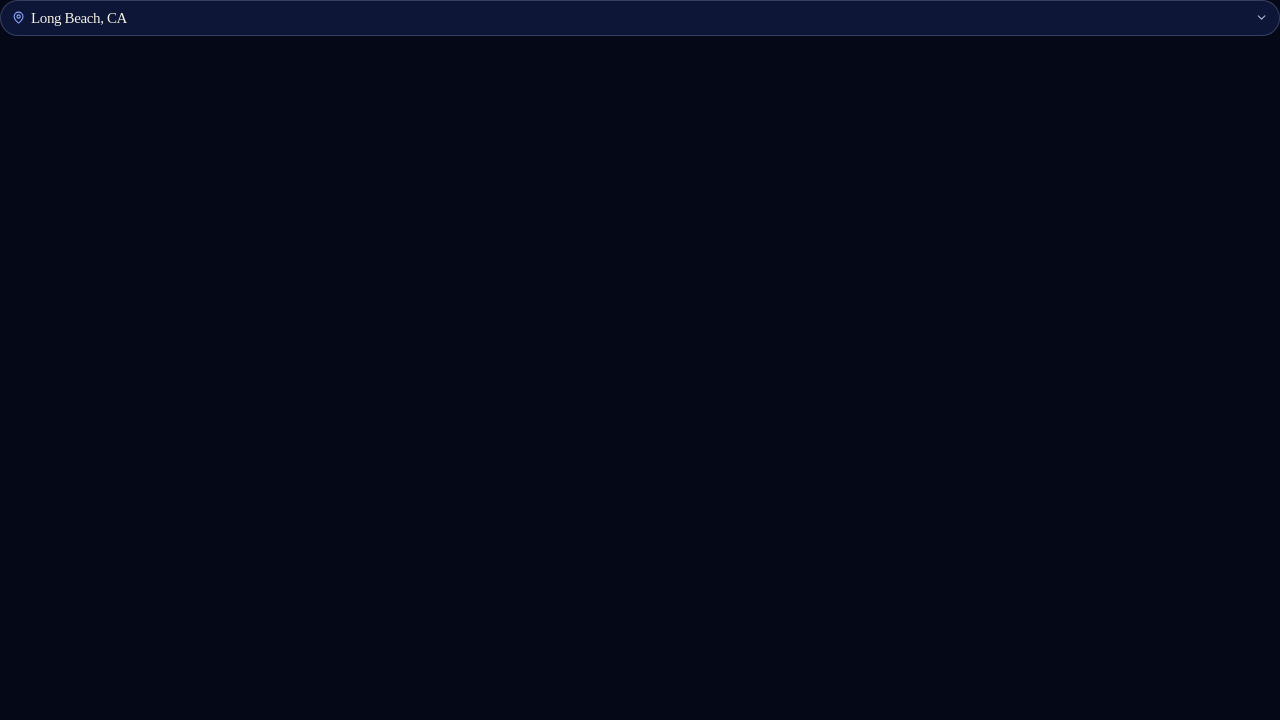
PlaceCombobox › does not return focus when an outside click dismisses the dialog
This screenshot has width=1280, height=720.
Click the button with aria-label "Place preset: Long Beach, CA" at coordinates (79, 18), box [0,0,1279,36]
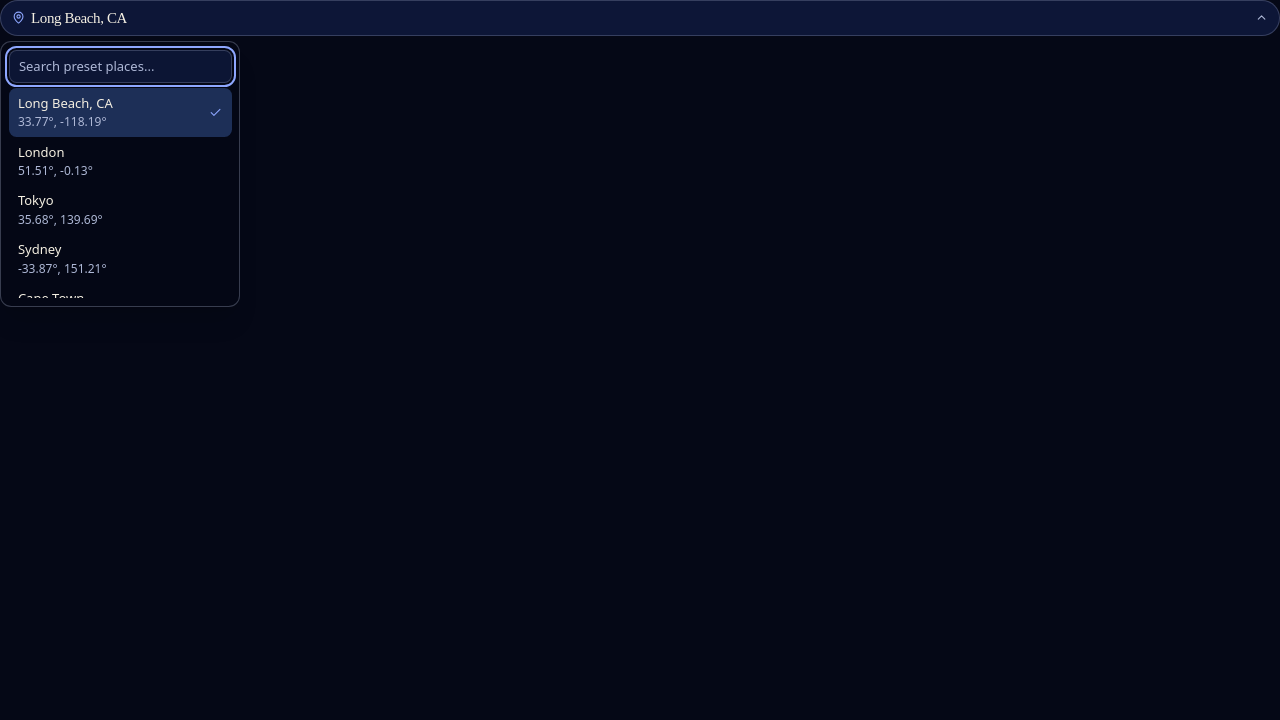
Press the mouse on the element that starts with "Long Beach, CA" at coordinates (640, 360), box [0,0,1279,719]
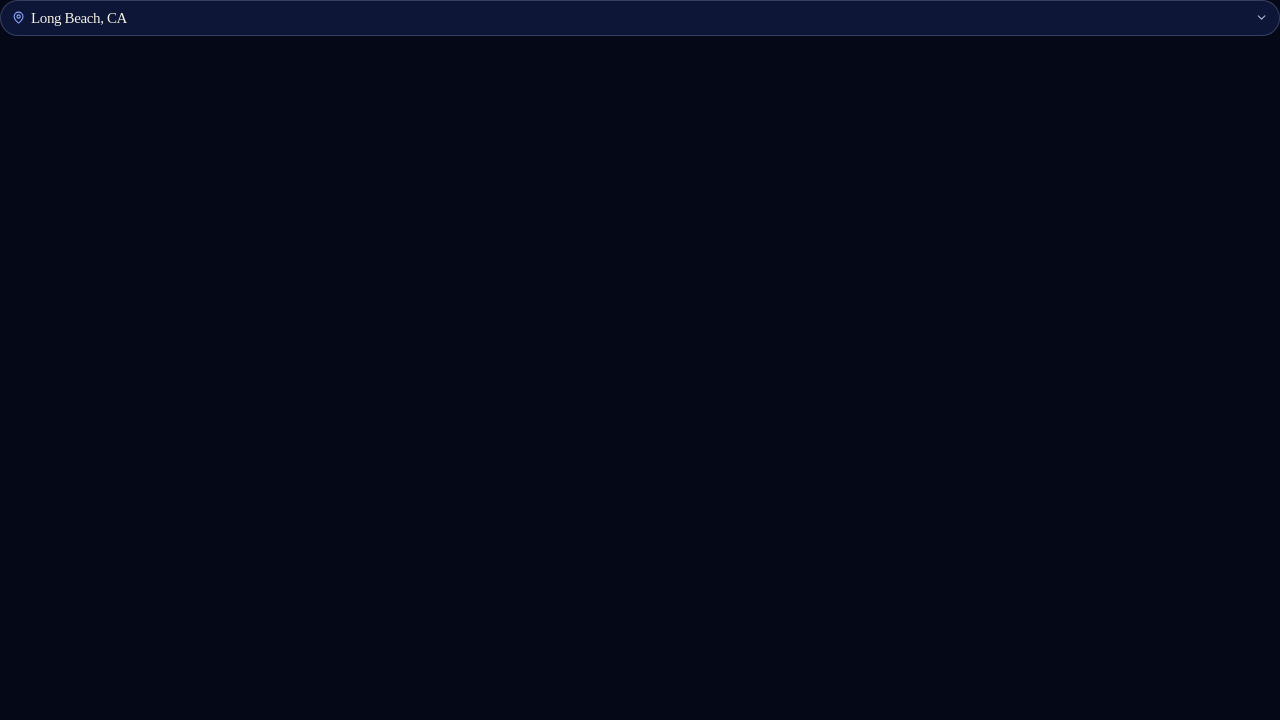
Result: the dialog is gone
